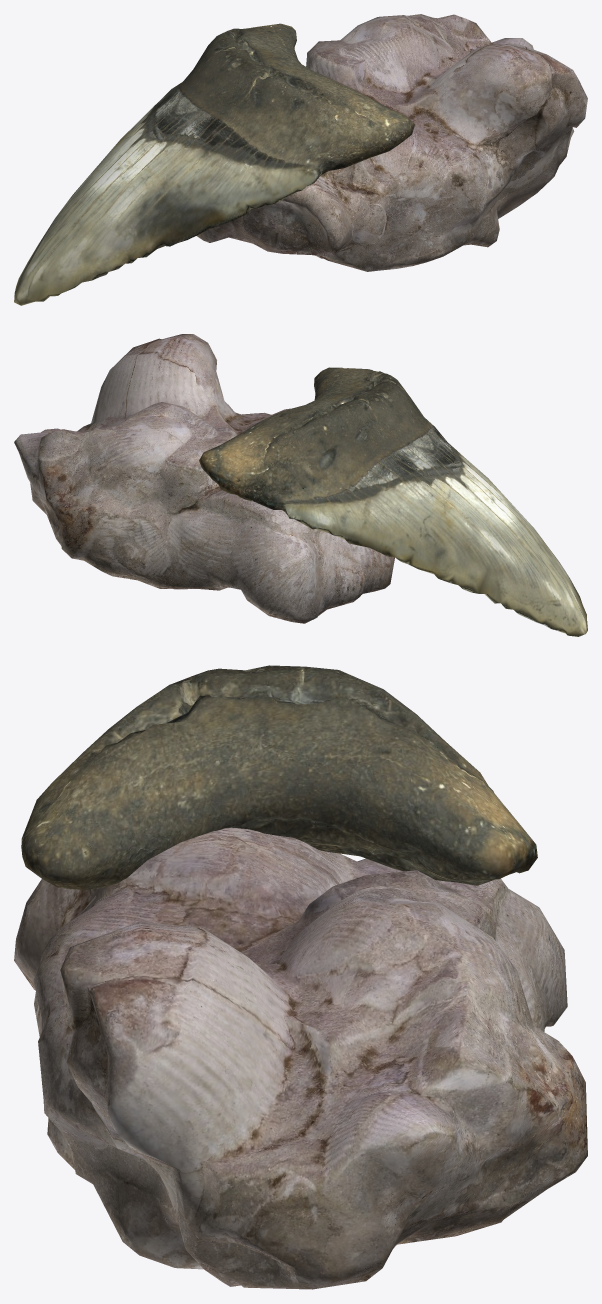
The model's file is fosseis_try.glb.
3 renders of one model, top to bottom at view 1: azimuth 30°, elevation 25°; view 2: azimuth 150°, elevation 25°; view 3: azimuth 270°, elevation 25°, orthographic. The views are drawn at different scales.
Parts seen in each view (by area): view 1: combinado_fosseis; view 2: combinado_fosseis; view 3: combinado_fosseis.
Part boxes in pixels (x1,y1,x2,y2): combinado_fosseis: (14, 14, 587, 305); combinado_fosseis: (14, 334, 587, 636); combinado_fosseis: (14, 665, 587, 1289).
Size of the model in its own units: 1.45 by 0.5558 by 0.7158.
Materials: 2 (2 with a texture image).
